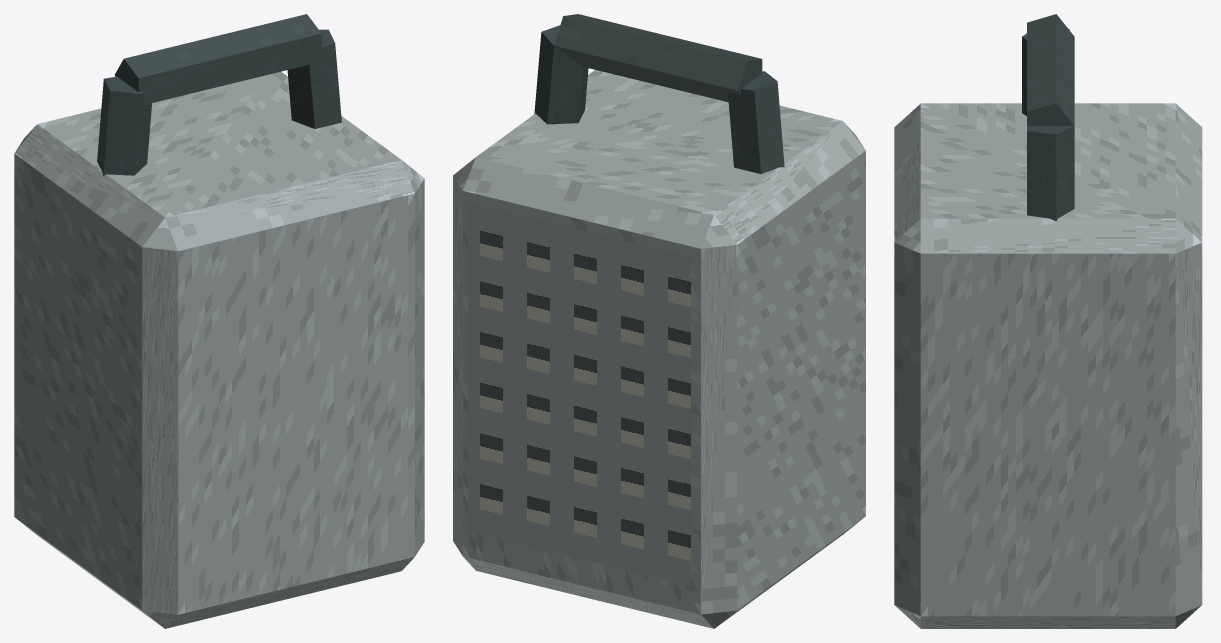
File: cheese_grater.glb
The picture shows the model from 3 angles, left to right: view 1: azimuth 30°, elevation 25°; view 2: azimuth 150°, elevation 25°; view 3: azimuth 270°, elevation 25°; orthographic projection.
Parts seen in each view (by area): view 1: block_tapered grater, block_arched grip 1, block_arched grip 0, block_arched grip 2; view 2: block_tapered grater, block_stamped holes, block_arched grip 1, block_arched grip 0, block_arched grip 2; view 3: block_tapered grater, block_arched grip 1, block_arched grip 2.
Part boxes in pixels (x1=…): block_tapered grater: x1=14, y1=71, x2=424, y2=628; block_arched grip 1: x1=115, y1=14, x2=321, y2=104; block_arched grip 0: x1=97, y1=76, x2=151, y2=175; block_arched grip 2: x1=287, y1=29, x2=341, y2=128; block_tapered grater: x1=453, y1=70, x2=865, y2=628; block_stamped holes: x1=468, y1=202, x2=690, y2=585; block_arched grip 1: x1=554, y1=14, x2=762, y2=102; block_arched grip 0: x1=728, y1=71, x2=784, y2=173; block_arched grip 2: x1=534, y1=25, x2=588, y2=124; block_tapered grater: x1=894, y1=103, x2=1202, y2=628; block_arched grip 1: x1=1027, y1=14, x2=1074, y2=125; block_arched grip 2: x1=1027, y1=126, x2=1074, y2=221.
Bounding box in the file's own units: 0.074 × 0.1287 × 0.071.
Materials: 1 (1 with a texture image).
